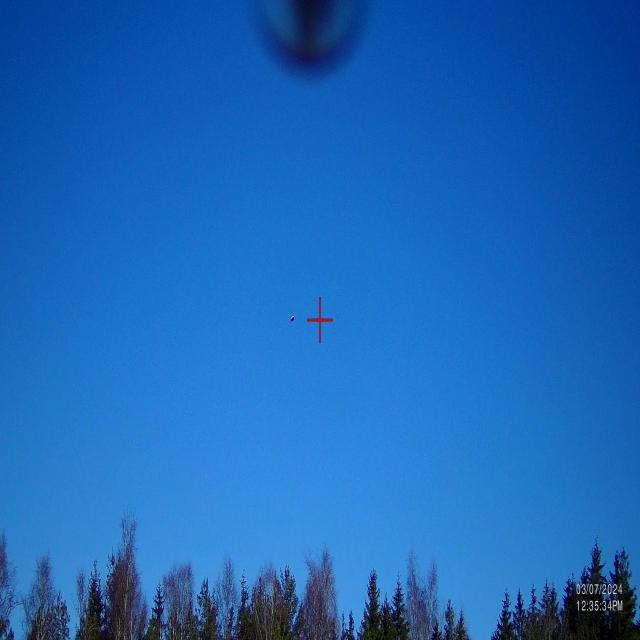entire: (290, 310, 296, 326)
